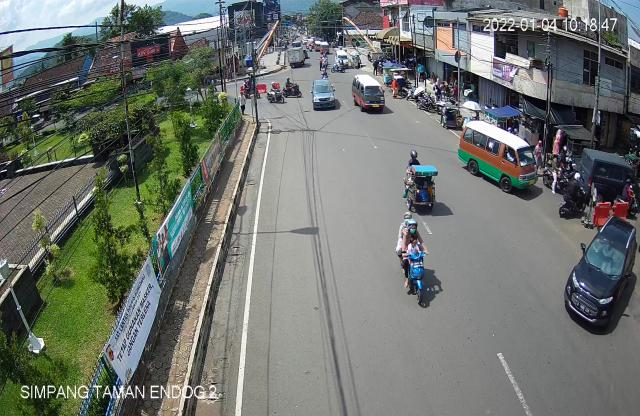Becak: (399, 145, 449, 216)
Mobil: (559, 213, 640, 340), (459, 118, 539, 194), (578, 145, 640, 211), (350, 72, 388, 118), (309, 76, 338, 114)
Motor: (392, 212, 438, 308), (559, 171, 585, 218), (282, 75, 302, 101), (268, 81, 284, 110)
